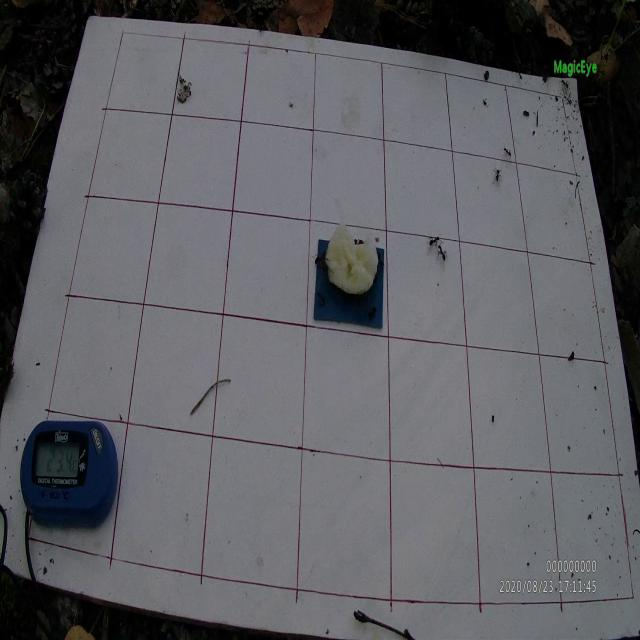Ant: (436, 244, 450, 268), (426, 235, 444, 252), (312, 250, 327, 266), (492, 166, 503, 186), (500, 146, 513, 162), (561, 79, 569, 89)
